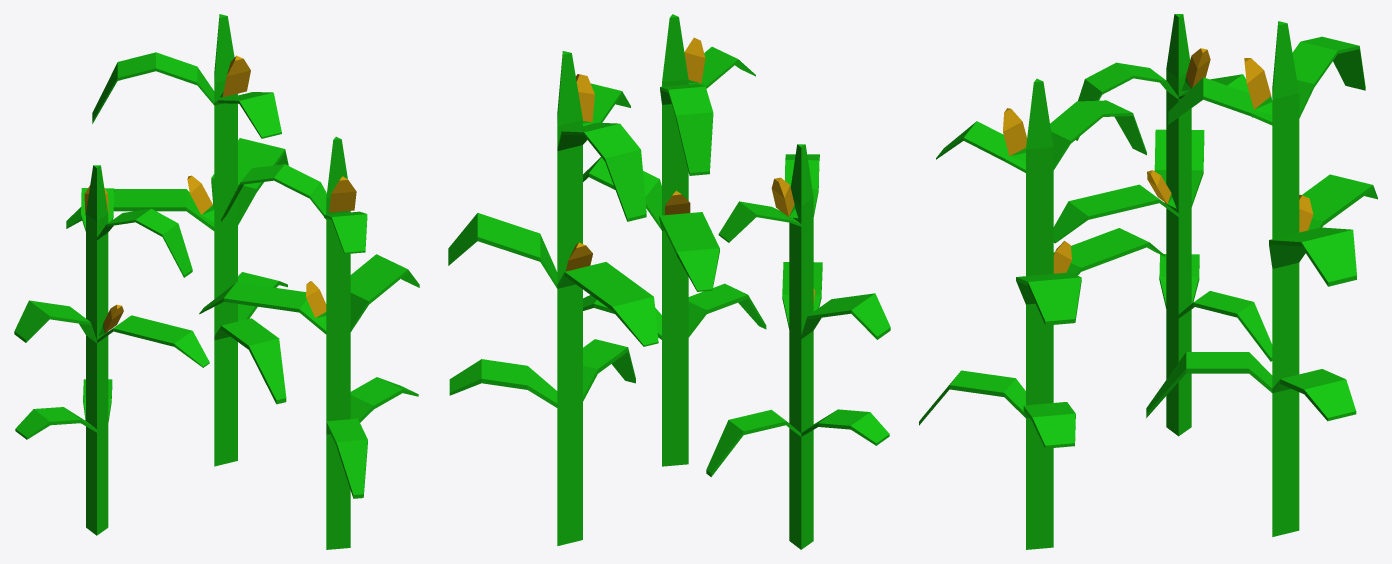
The model's file is cornStage4.obj.
3 renders of one model, left to right at view 1: azimuth 30°, elevation 25°; view 2: azimuth 150°, elevation 25°; view 3: azimuth 270°, elevation 25°, orthographic. The views are drawn at different scales.
Parts seen in each view (by area): view 1: Corn; view 2: Corn; view 3: Corn.
Boxes of the visible parts, x1,y1,x2,y2 form: Corn: (14,14,419,549); Corn: (448,14,890,549); Corn: (919,14,1377,549).
Bounding box in the file's own units: 2.24 × 2.86 × 2.3.
